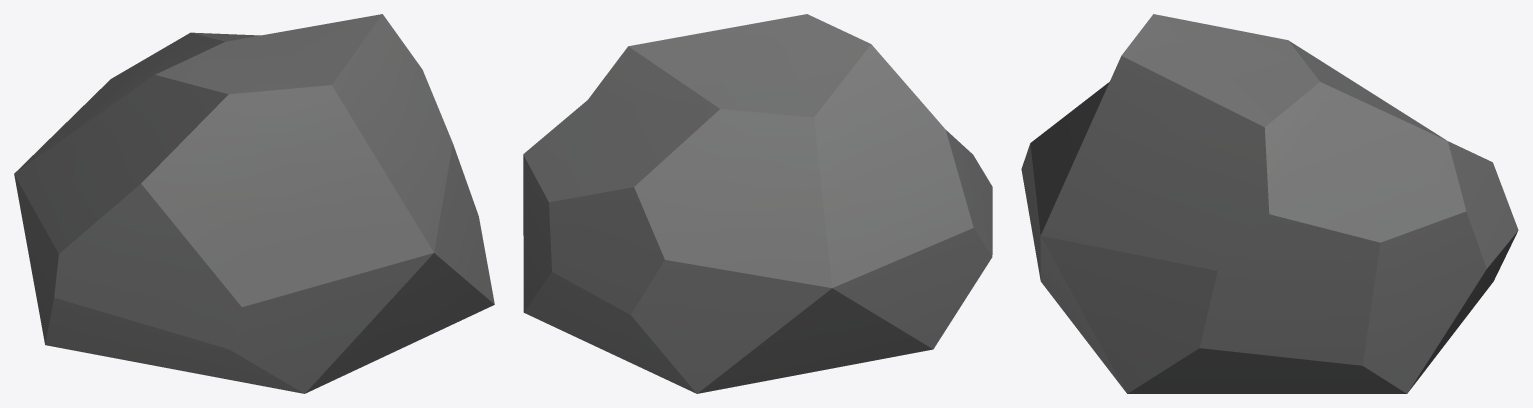
The model's file is Rock002.fbx.
3 renders of one model, left to right at view 1: azimuth 30°, elevation 25°; view 2: azimuth 150°, elevation 25°; view 3: azimuth 270°, elevation 25°, orthographic. The views are drawn at different scales.
Parts seen in each view (by area): view 1: Icosphere; view 2: Icosphere; view 3: Icosphere.
Boxes of the visible parts, x1,y1,x2,y2 form: Icosphere: (14, 14, 494, 393); Icosphere: (523, 14, 992, 393); Icosphere: (1021, 14, 1518, 393).
Bounding box in the file's own units: 183 × 107 × 187.
